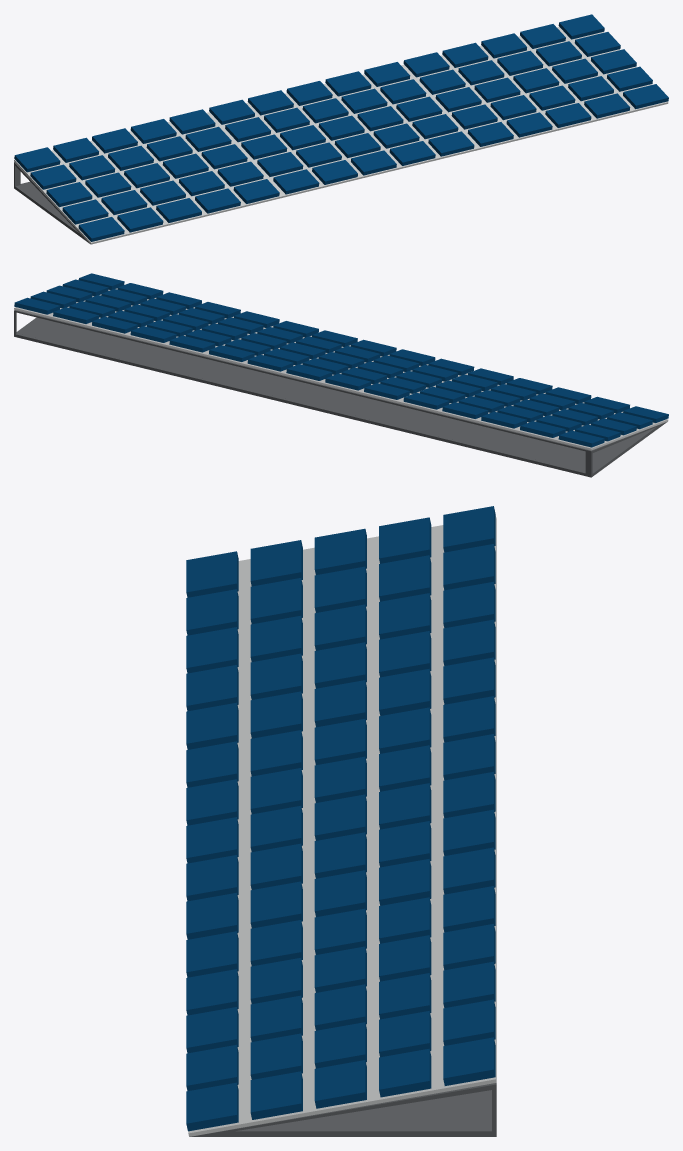
The model's file is Solar Panel 5x15 small.glb.
The picture shows the model from 3 angles, top to bottom: view 1: azimuth 30°, elevation 25°; view 2: azimuth 150°, elevation 25°; view 3: azimuth 270°, elevation 25°; orthographic projection. The views are drawn at different scales.
Parts seen in each view (by area): view 1: Mesh_Mesh_head_geo.001_lambert2SG.001; view 2: Mesh_Mesh_head_geo.001_lambert2SG.001; view 3: Mesh_Mesh_head_geo.001_lambert2SG.001.
Boxes of the visible parts, bbox=[...] form: Mesh_Mesh_head_geo.001_lambert2SG.001: bbox=[14, 14, 668, 244]; Mesh_Mesh_head_geo.001_lambert2SG.001: bbox=[14, 273, 668, 477]; Mesh_Mesh_head_geo.001_lambert2SG.001: bbox=[186, 506, 496, 1136].
Size of the model in its own units: 460 by 25.65 by 107.
